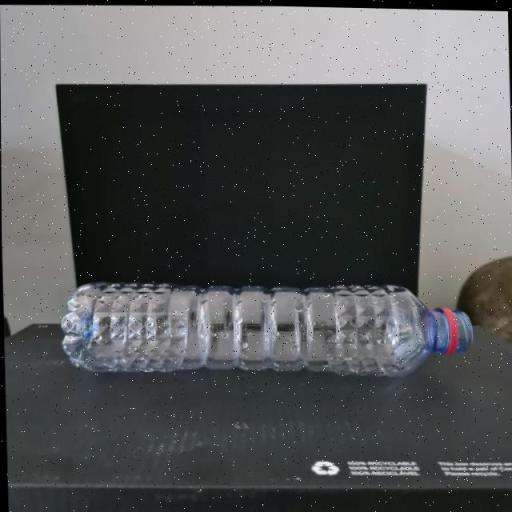plastic: (48, 271, 477, 390)
